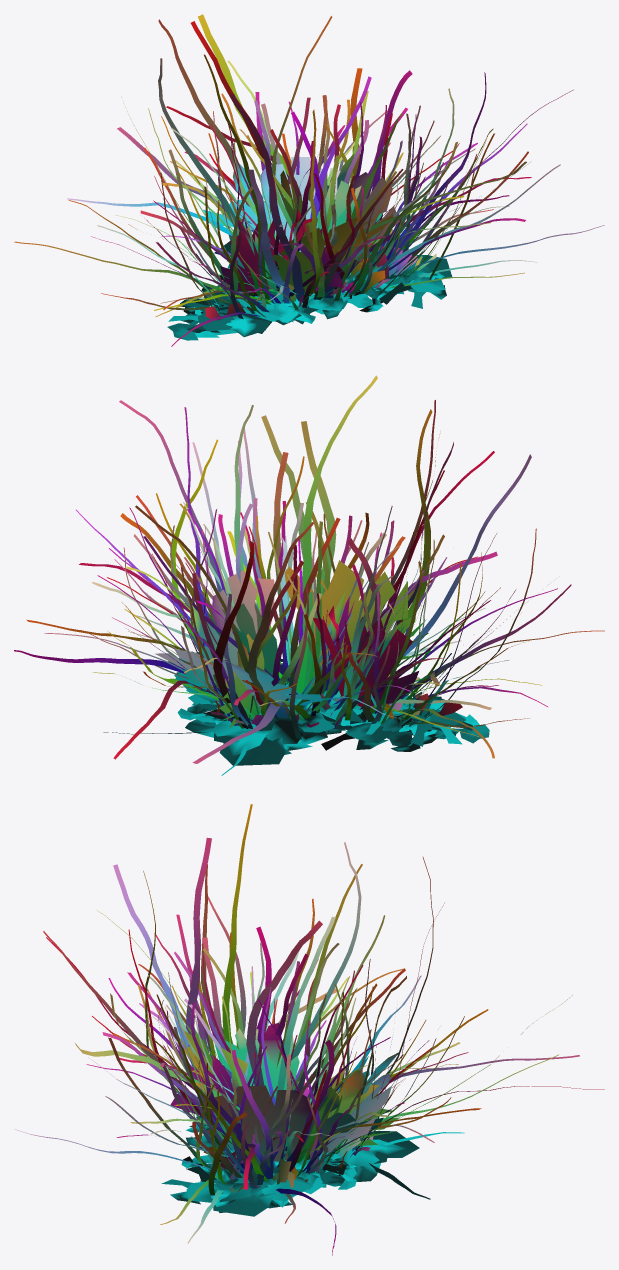
Rendered from Wild_Grass_vczndjqja_High_vczndjqja_VarD_LOD0.fbx.
The picture shows the model from 3 angles, top to bottom: view 1: azimuth 30°, elevation 25°; view 2: azimuth 150°, elevation 25°; view 3: azimuth 270°, elevation 25°; orthographic projection. The views are drawn at different scales.
Visible parts, largest first — view 1: _xsbo_VarD_LOD0; view 2: _xsbo_VarD_LOD0; view 3: _xsbo_VarD_LOD0.
Part boxes in pixels (<box>): _xsbo_VarD_LOD0: <box>14,14,604,346</box>; _xsbo_VarD_LOD0: <box>14,375,604,775</box>; _xsbo_VarD_LOD0: <box>15,804,604,1255</box>.
Bounding box in the file's own units: 139 × 77.4 × 143.
